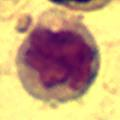lymphocyte: (11, 8, 101, 105)
